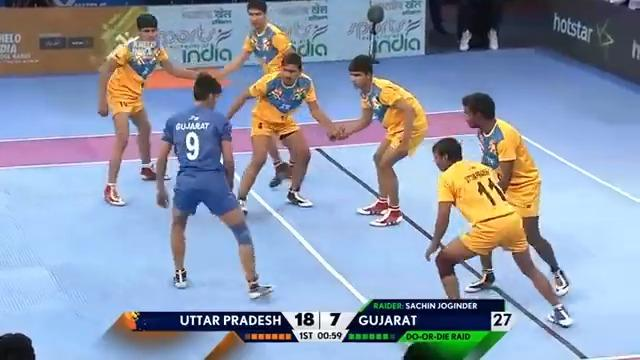Player: (424, 136, 573, 327), (96, 13, 209, 206), (223, 52, 345, 215), (207, 0, 301, 188), (328, 53, 428, 227)
Raider: (154, 72, 273, 299)
referee: (455, 0, 504, 51), (0, 331, 35, 359)
